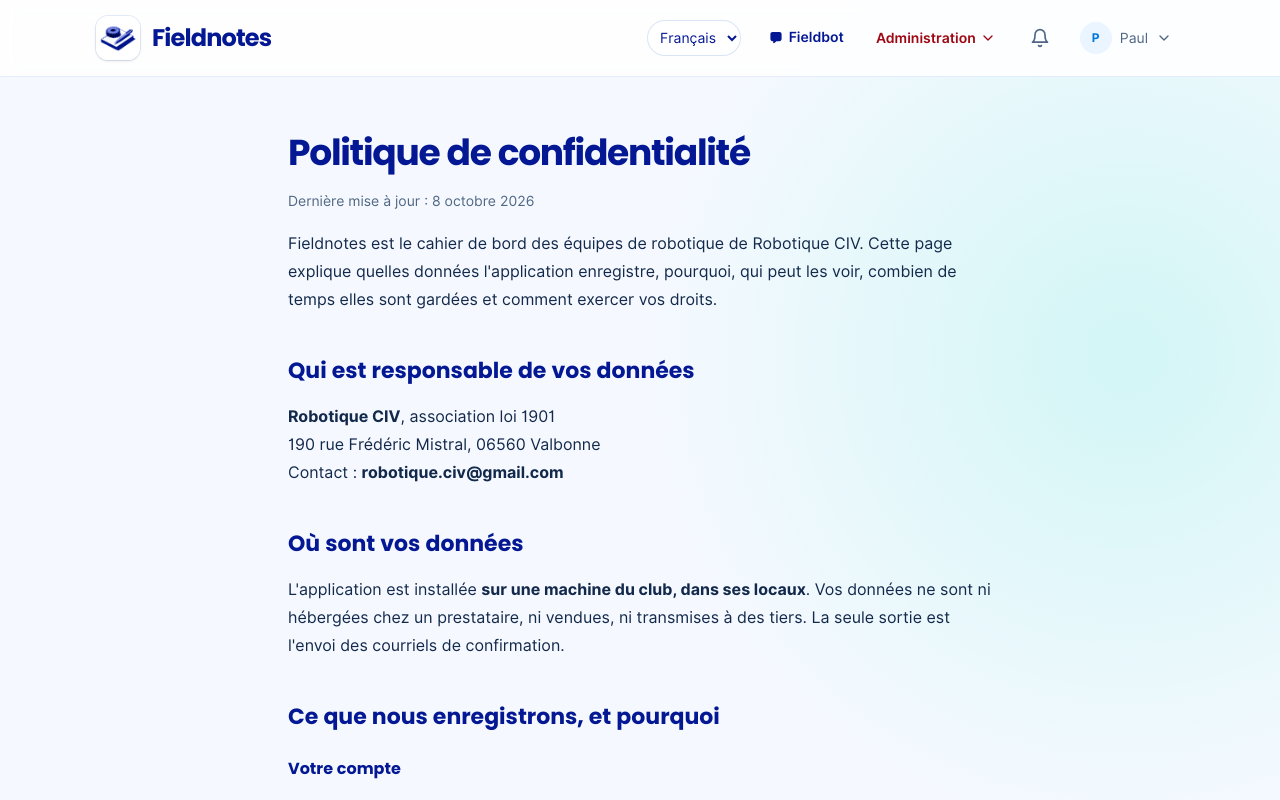
Test: puts the account menu away with Escape, focus back on its button
Click the button with aria-label "Menu du compte (Paul)": (1130, 38) left=1076, top=18, right=1184, bottom=58
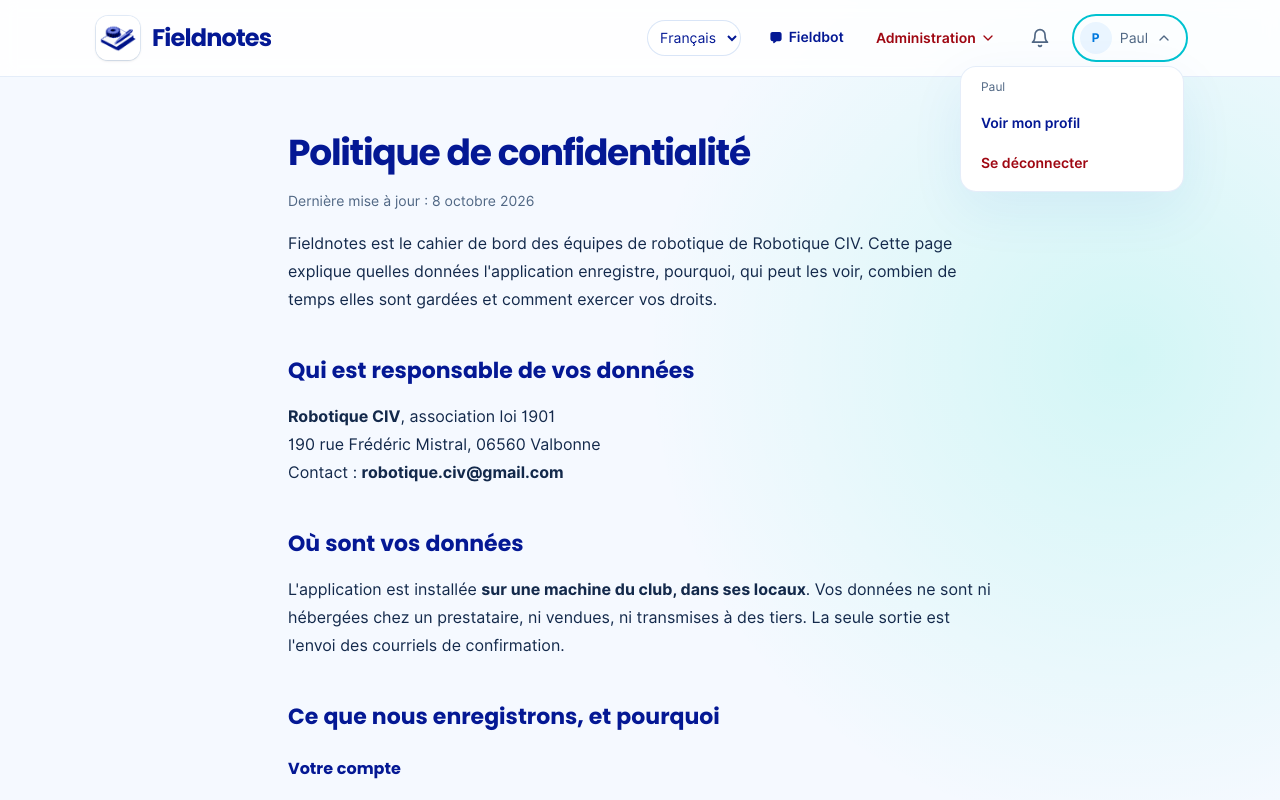
Press Escape
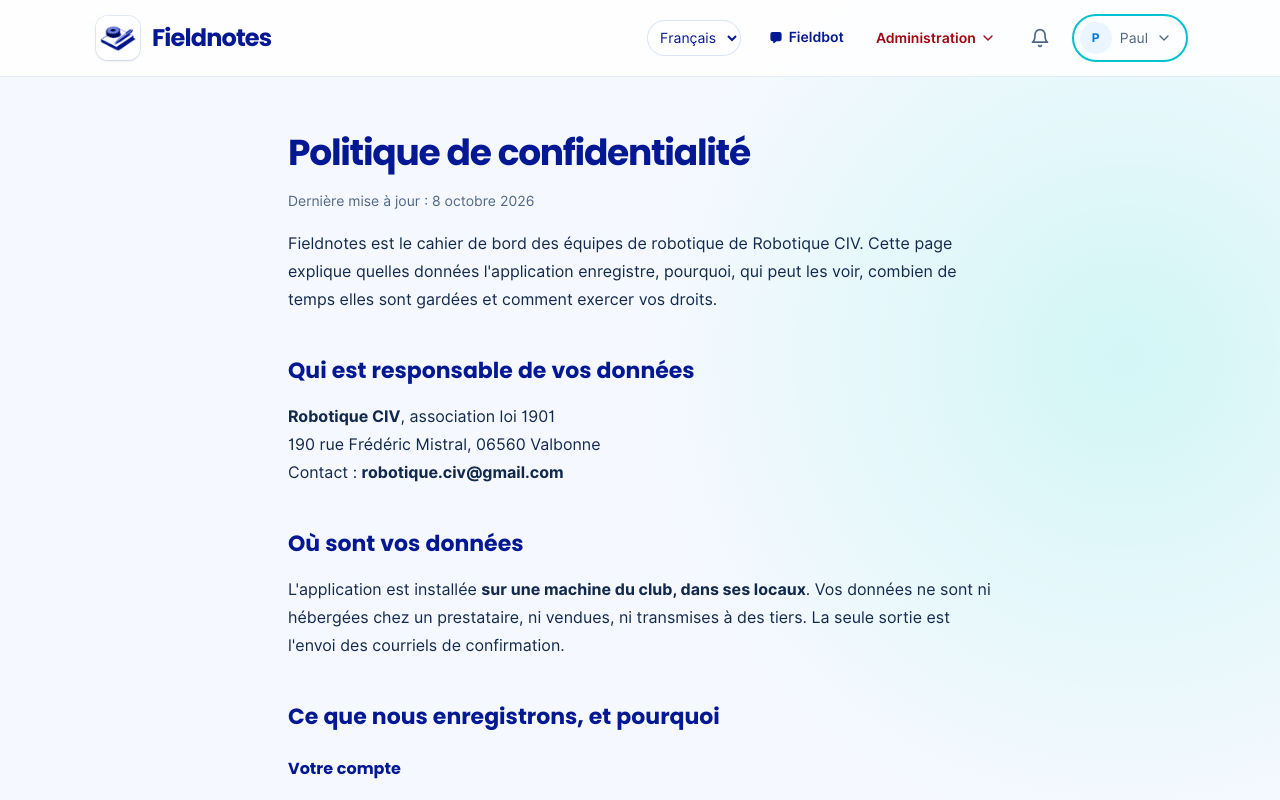
expect the link "Voir mon profil" is gone: met
